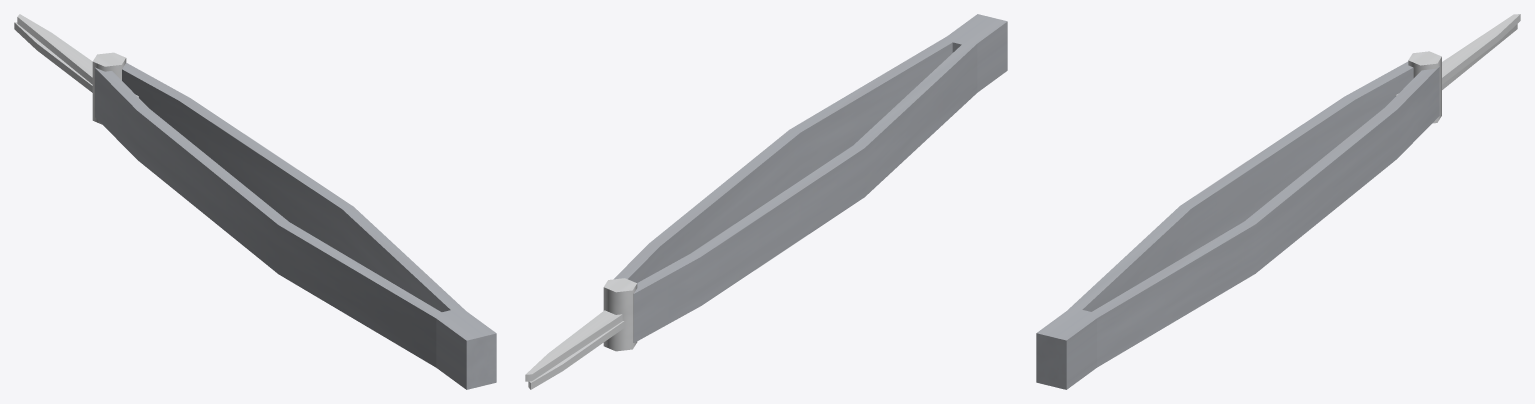
Rendered from m2_vannas_scissors.glb.
3 views of the same model, side by side, from view 1: azimuth 30°, elevation 25°; view 2: azimuth 150°, elevation 25°; view 3: azimuth 330°, elevation 25° (orthographic).
Visible parts, largest first — view 1: m2_vannas_scissors; view 2: m2_vannas_scissors; view 3: m2_vannas_scissors.
Part boxes in pixels (left/top/right/bottom): m2_vannas_scissors: left=14, top=14, right=496, bottom=389; m2_vannas_scissors: left=525, top=14, right=1007, bottom=389; m2_vannas_scissors: left=1036, top=14, right=1520, bottom=389.
Size of the model in its own units: 0.008 by 0.006 by 0.0855.
1 material, 1 textured.
